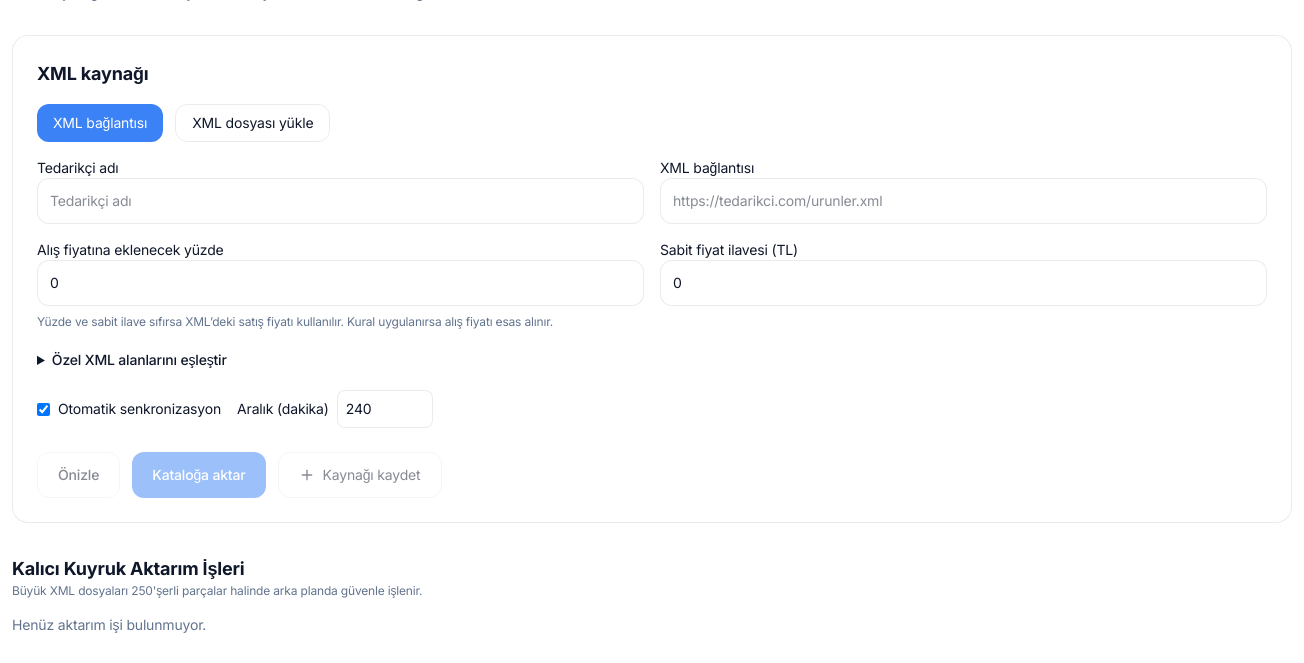
Scenario: XML import workspace › previews an actual API result before allowing catalogue import
The image size is (1304, 663).
Expected: the button "Kataloğa aktar" is disabled, left=132, top=452, right=266, bottom=498
Type "https://example.com/products.xml" into the field labelled "XML bağlantısı" at coordinates (964, 201), box left=660, top=178, right=1267, bottom=224
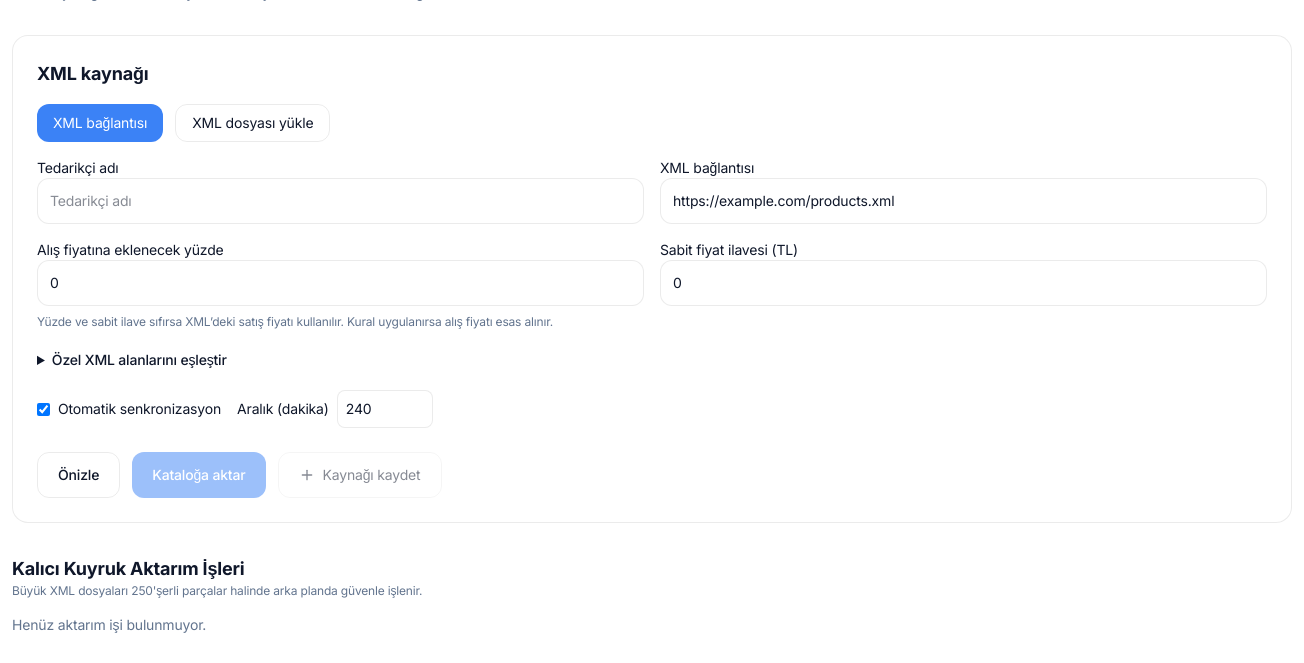
Click the button "Önizle" at coordinates (79, 475), box left=37, top=452, right=120, bottom=498
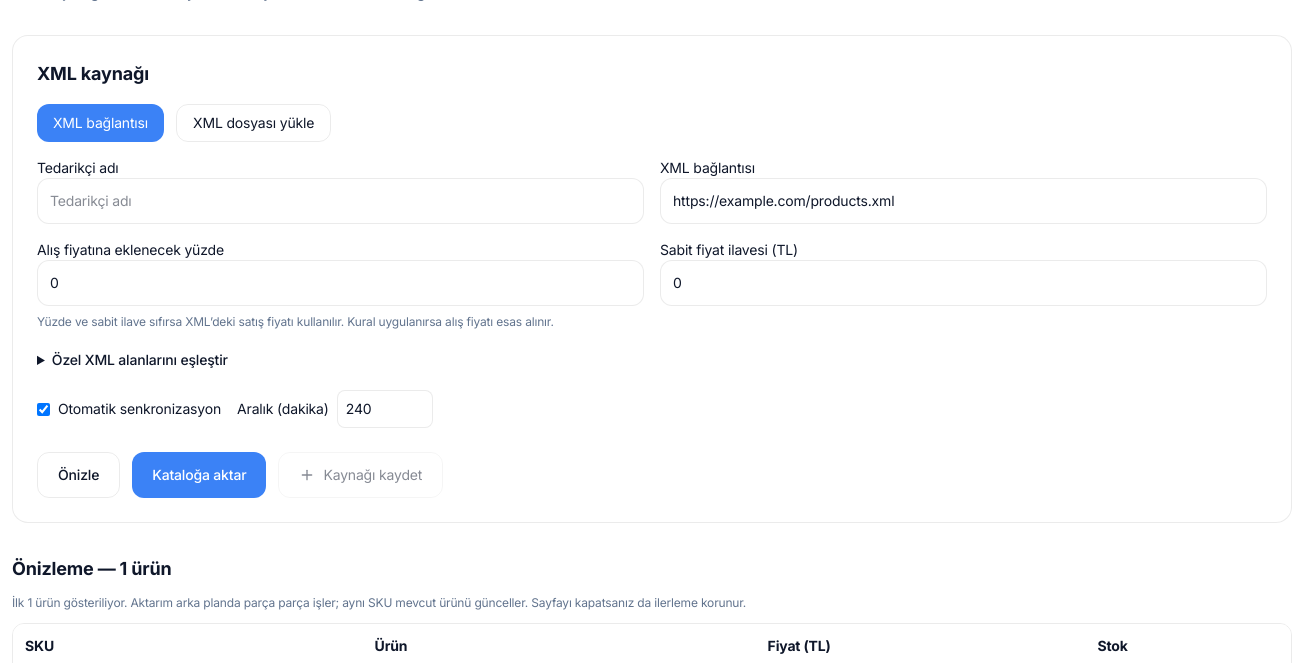
Expected: the button "Kataloğa aktar" is enabled
Click the button "Kataloğa aktar" at coordinates (199, 475), box left=132, top=452, right=266, bottom=498
(page scrolled)
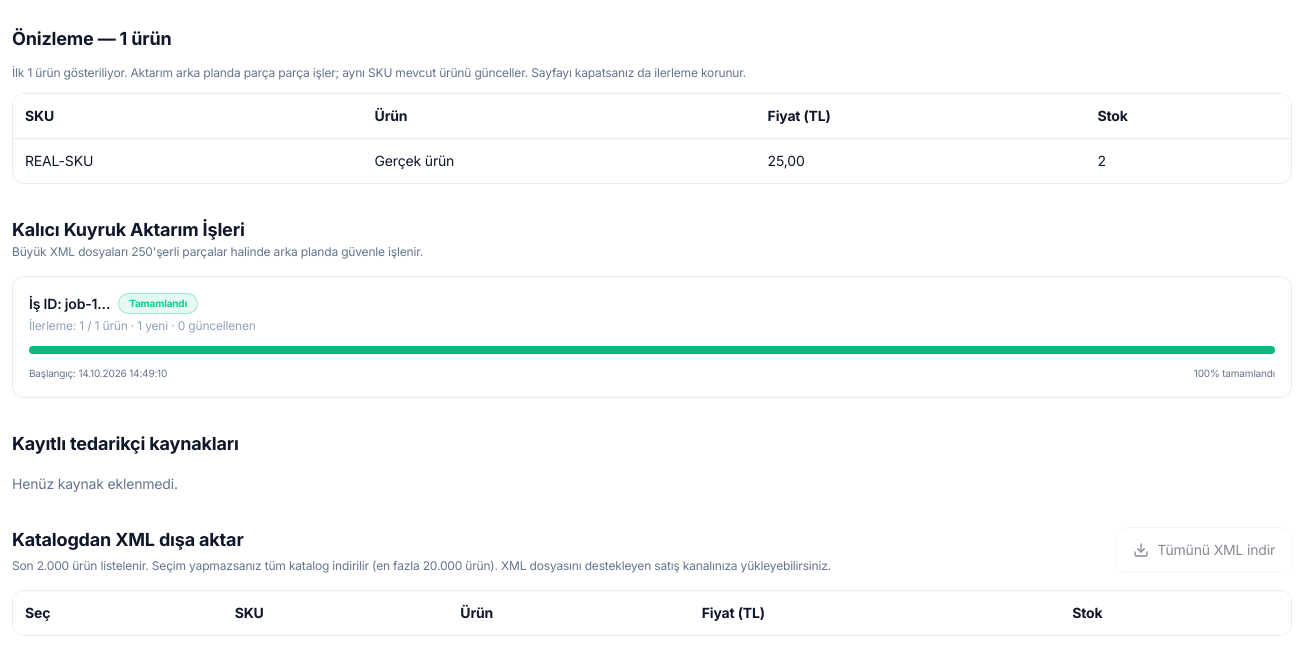
Expected: the text "Tamamlandı" is shown, left=118, top=293, right=198, bottom=314
